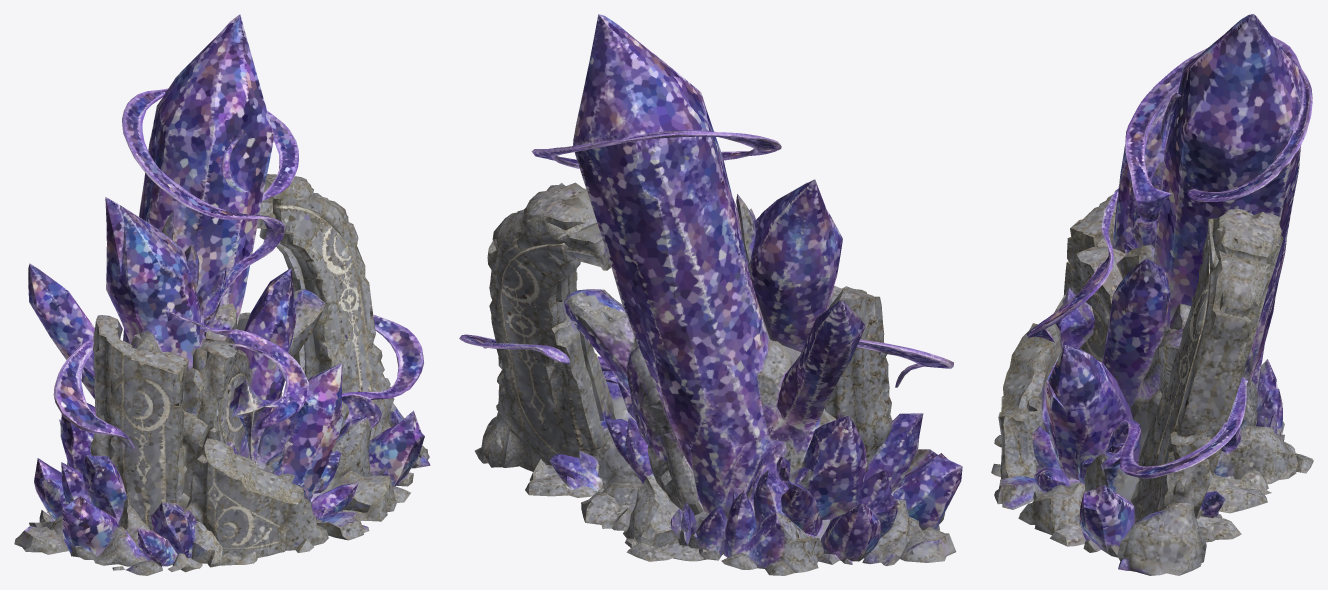
Rendered from deco_starshard_lite.glb.
The picture shows the model from 3 angles, left to right: view 1: azimuth 30°, elevation 25°; view 2: azimuth 150°, elevation 25°; view 3: azimuth 270°, elevation 25°; orthographic projection. The views are drawn at different scales.
Visible parts, largest first — view 1: geometry_0; view 2: geometry_0; view 3: geometry_0.
Part boxes in pixels (x1,y1,x2,y2): geometry_0: (14,14,430,575); geometry_0: (459,14,962,575); geometry_0: (991,14,1313,575).
Bounding box in the file's own units: 1.86 × 1.9 × 1.15.
Materials: 1 (1 with a texture image).
